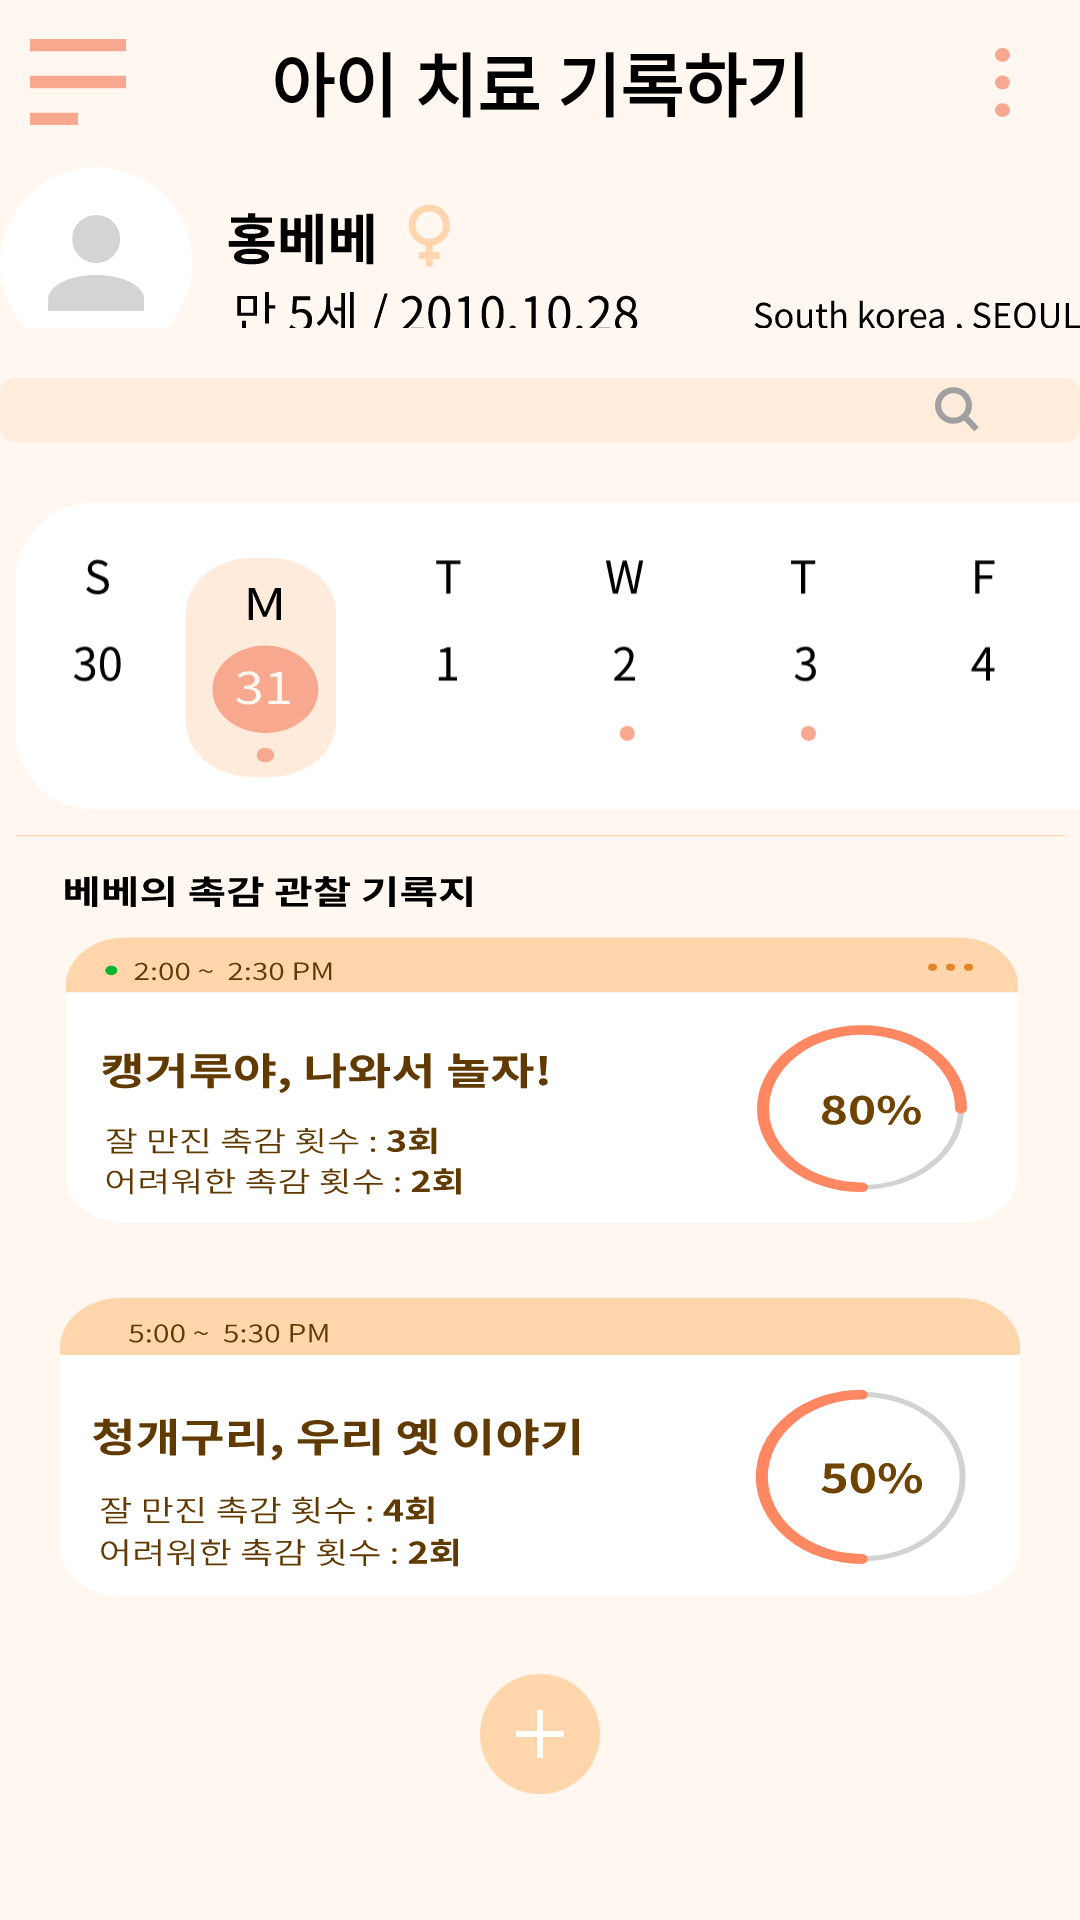

Screen size 1080px×1920px. Icon name, then its center in pixels as (x=x, y=y):
plus: (x=540, y=1734)
